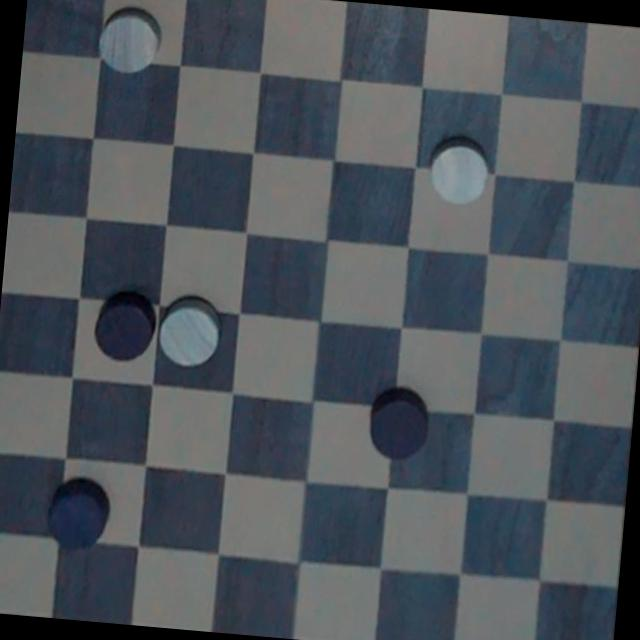BOARD: (0, 0, 640, 640)
black: (358, 366, 448, 466), (82, 278, 160, 374), (40, 468, 115, 556)
white: (156, 281, 234, 374), (85, 1, 170, 80), (423, 137, 492, 207)
